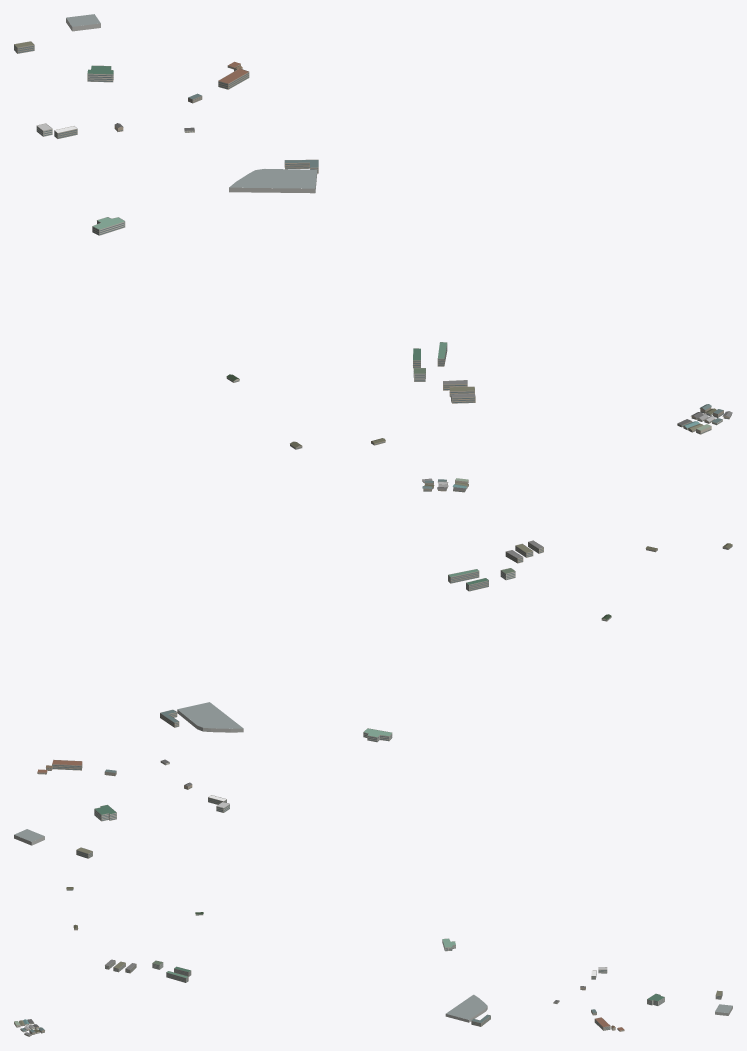
3 views of the same model, one above another, from view 1: azimuth 30°, elevation 25°; view 2: azimuth 150°, elevation 25°; view 3: azimuth 270°, elevation 25° (orthographic). The views are drawn at different scales.
Visible parts, largest first — view 1: context-buildings-far, context-buildings-near; view 2: context-buildings-far, context-buildings-near; view 3: context-buildings-far, context-buildings-near.
Part boxes in pixels (left/top/right/bottom): context-buildings-far: left=14, top=14, right=732, bottom=449; context-buildings-near: left=184, top=61, right=318, bottom=193; context-buildings-far: left=14, top=478, right=732, bottom=858; context-buildings-near: left=37, top=702, right=243, bottom=776; context-buildings-far: left=14, top=887, right=732, bottom=1036; context-buildings-near: left=445, top=994, right=624, bottom=1031.
Size of the model in its own units: 701 by 88.31 by 1734.
